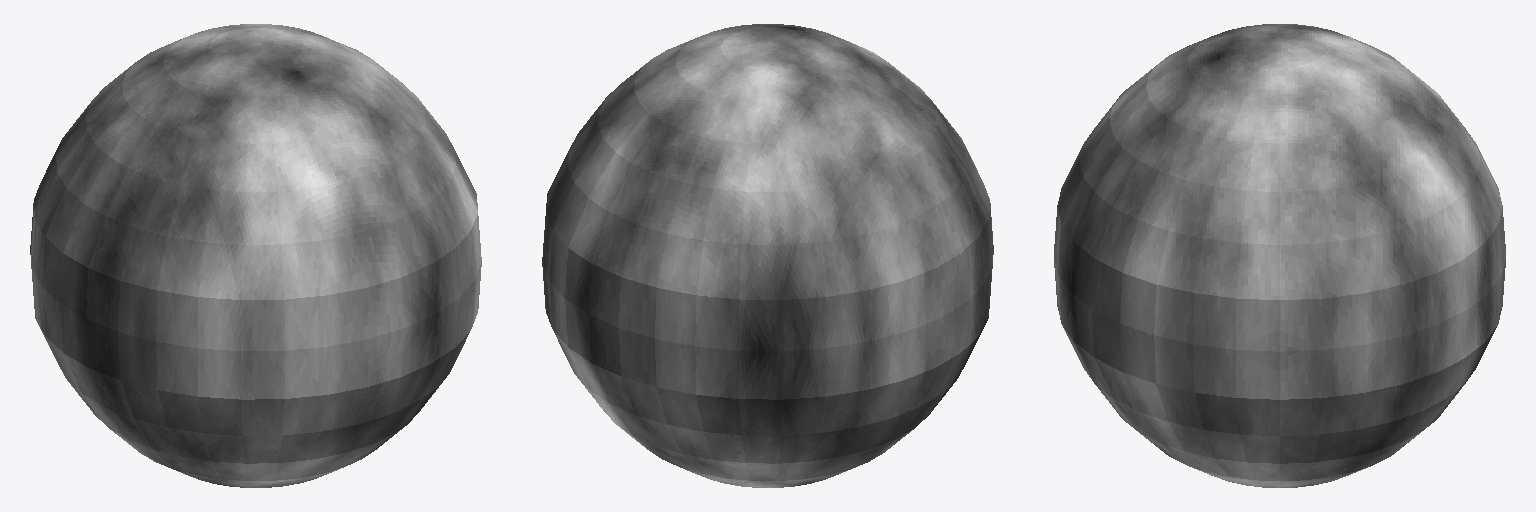
3 renders of one model, left to right at view 1: azimuth 30°, elevation 25°; view 2: azimuth 150°, elevation 25°; view 3: azimuth 270°, elevation 25°, orthographic.
Parts seen in each view (by area): view 1: Sphere; view 2: Sphere; view 3: Sphere.
Boxes of the visible parts, x1,y1,x2,y2 form: Sphere: [30, 24, 481, 487]; Sphere: [542, 24, 993, 487]; Sphere: [1054, 24, 1505, 487].
Size of the model in its own units: 1.55 by 1.61 by 1.55.
1 materials, 1 textured.